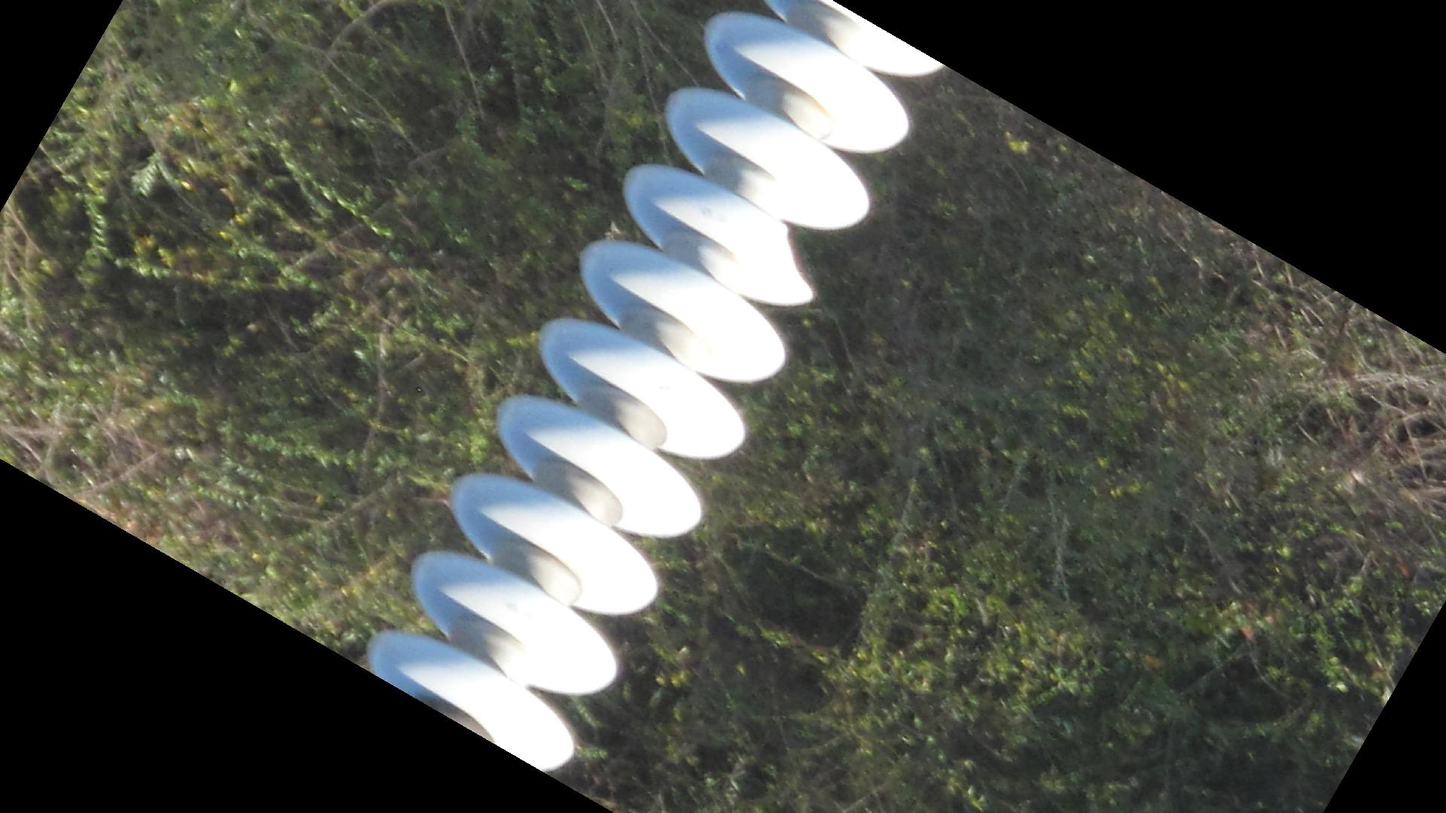insulator: (357, 1, 958, 784)
insulator_breakage: (763, 212, 825, 312)
